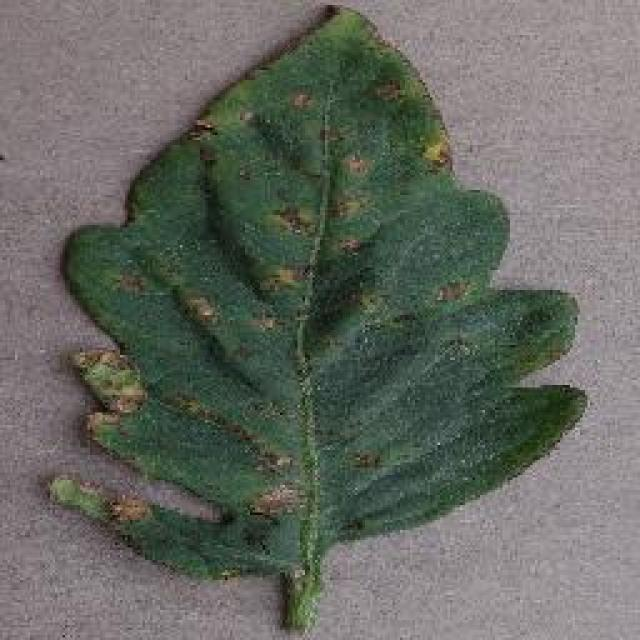Tomato___Bacterial_spot: (37, 8, 598, 631)
